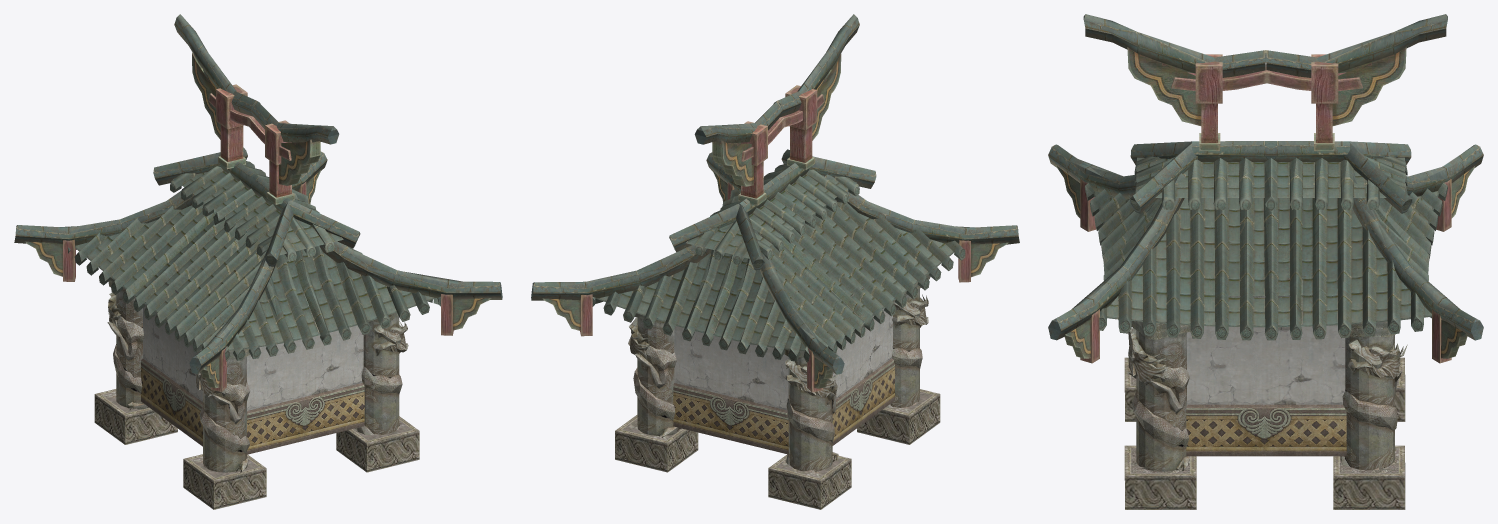
The model's file is bg_anh_delphic_bd04_sm_old.FBX.
The picture shows the model from 3 angles, left to right: view 1: azimuth 30°, elevation 25°; view 2: azimuth 150°, elevation 25°; view 3: azimuth 270°, elevation 25°; orthographic projection. The views are drawn at different scales.
Visible parts, largest first — view 1: bg_anh_delphic_bd04_sm_old; view 2: bg_anh_delphic_bd04_sm_old; view 3: bg_anh_delphic_bd04_sm_old.
Boxes of the visible parts, x1,y1,x2,y2 form: bg_anh_delphic_bd04_sm_old: (14, 14, 502, 509); bg_anh_delphic_bd04_sm_old: (531, 14, 1019, 509); bg_anh_delphic_bd04_sm_old: (1048, 14, 1483, 509).
Size of the model in its own units: 426 by 484 by 437.
